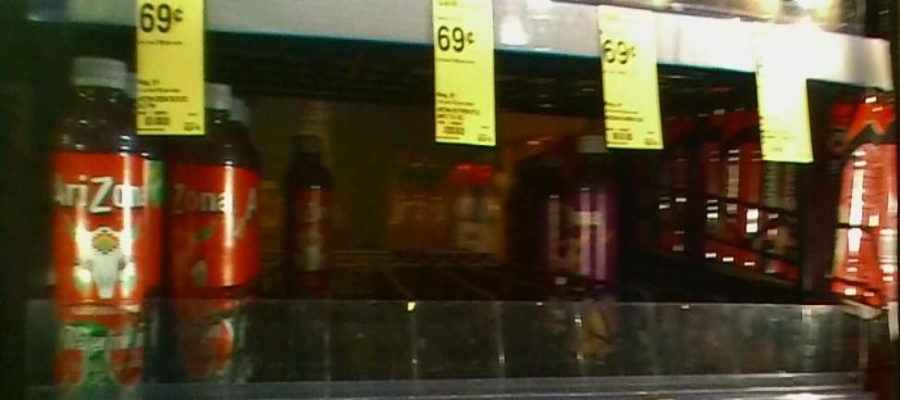bottle: (45, 44, 149, 399), (166, 85, 234, 377), (287, 135, 331, 288), (573, 137, 617, 287)
